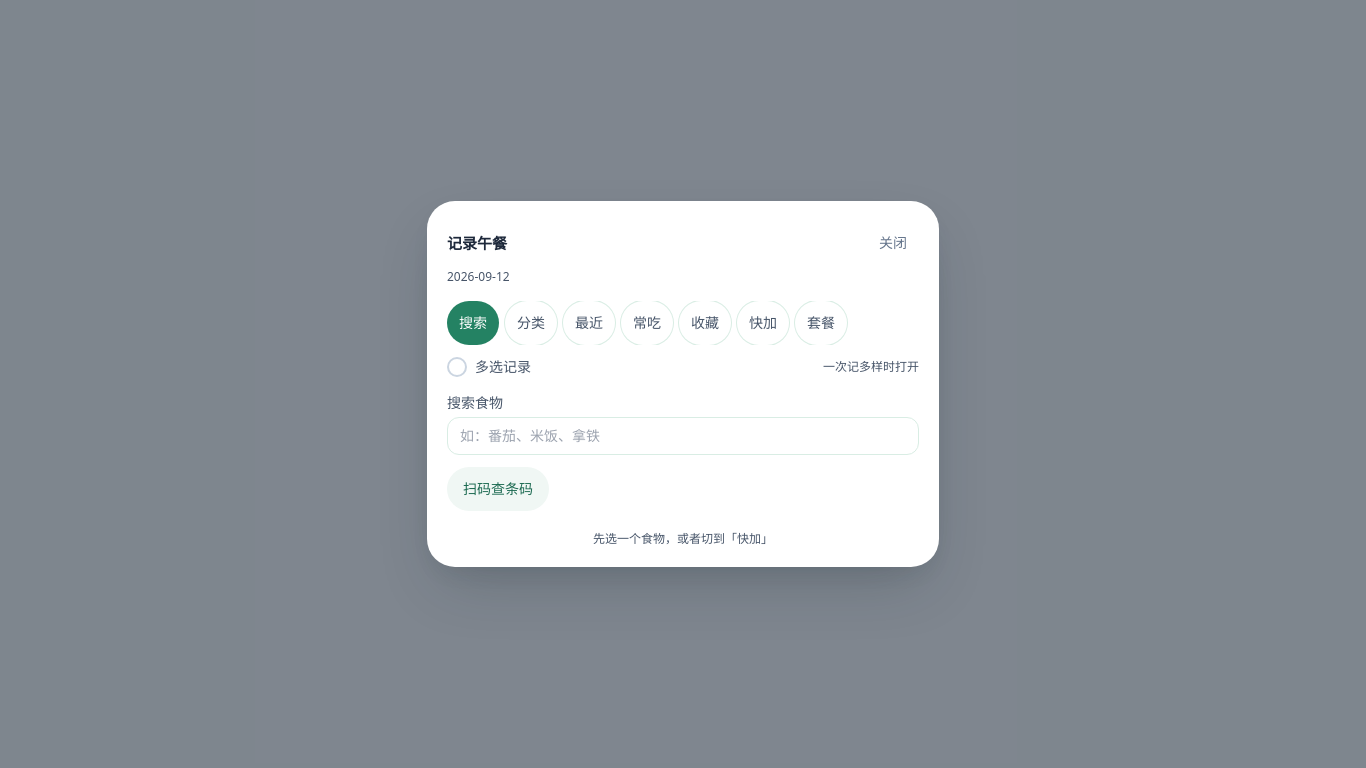
Test: R11.5+ 常吃榜「上次食用日期」透传（core 已算好，UI 只接线） › ★ 显示的是接口给的那一天（纯透传，UI 不另算「隔了几天」）
Click the tab "常吃": point(647, 323) [621,301,673,345]
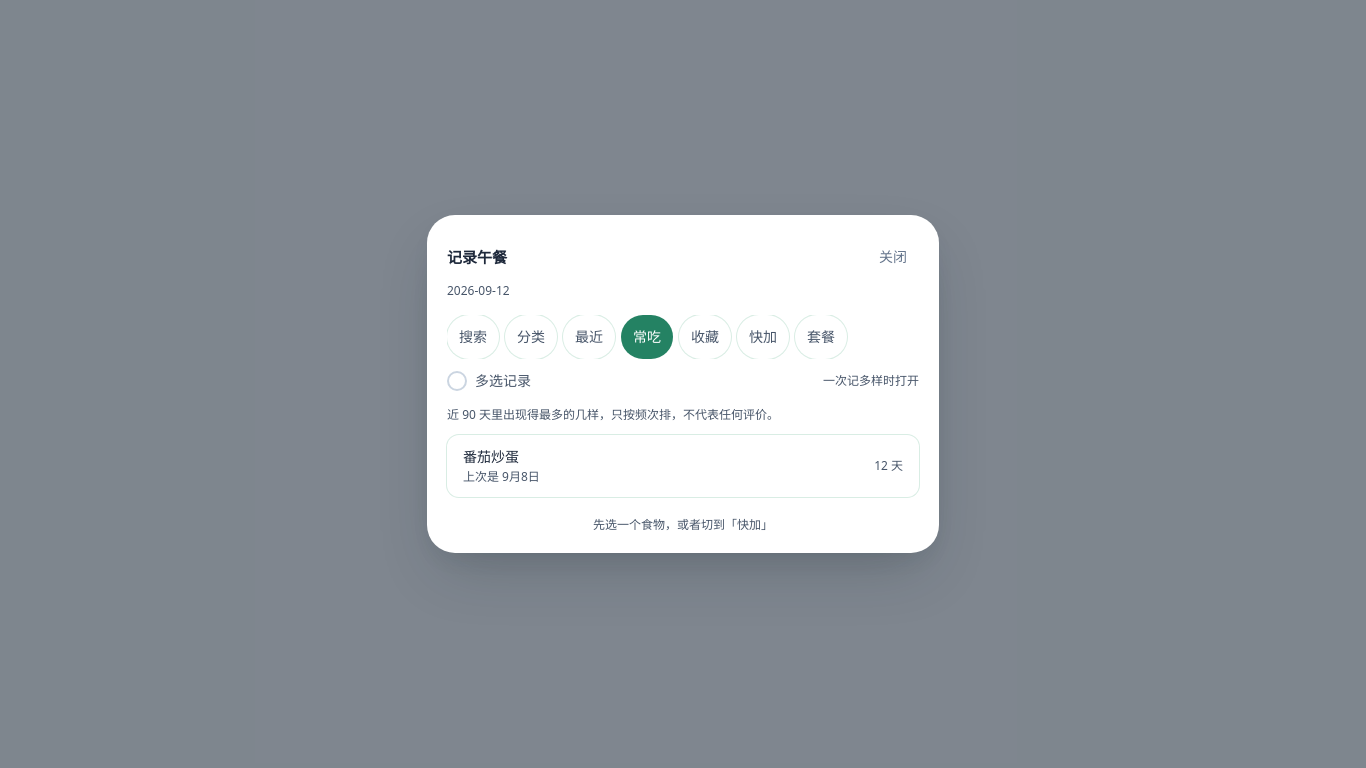
Check: the text "番茄炒蛋" is shown, box [463,447,519,466]
Check: the text "上次是 9月8日" is shown, box [463,468,540,485]
